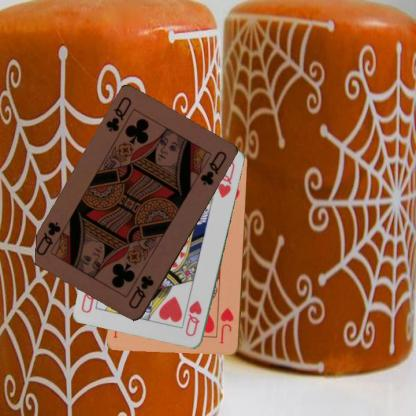Jh: (217, 306, 235, 346)
Qc: (103, 94, 133, 134), (126, 273, 155, 311)
Qh: (184, 298, 204, 338)
